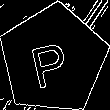P_N: (30, 30, 77, 88)
